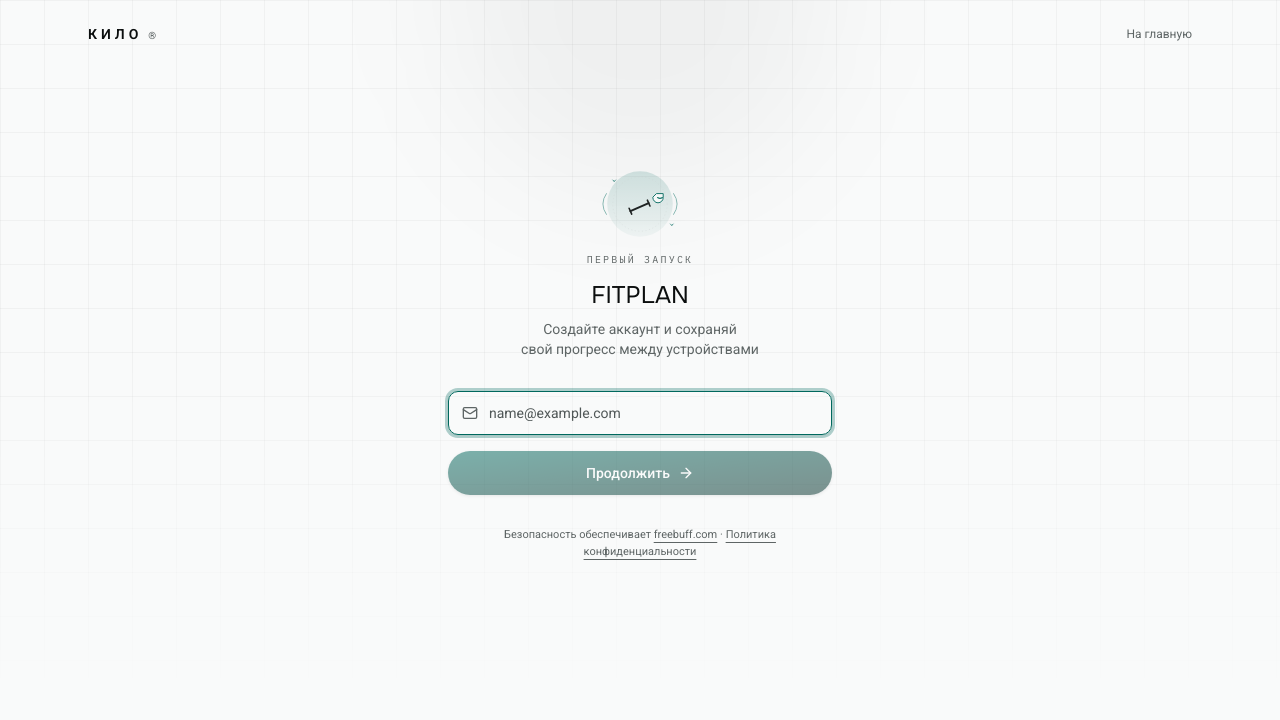
Auth — Email + Password › wrong password shows error
This screenshot has width=1280, height=720.
In the field with placeholder "name@example.com": (640, 413) [448,391,832,435], type "test@example.com"
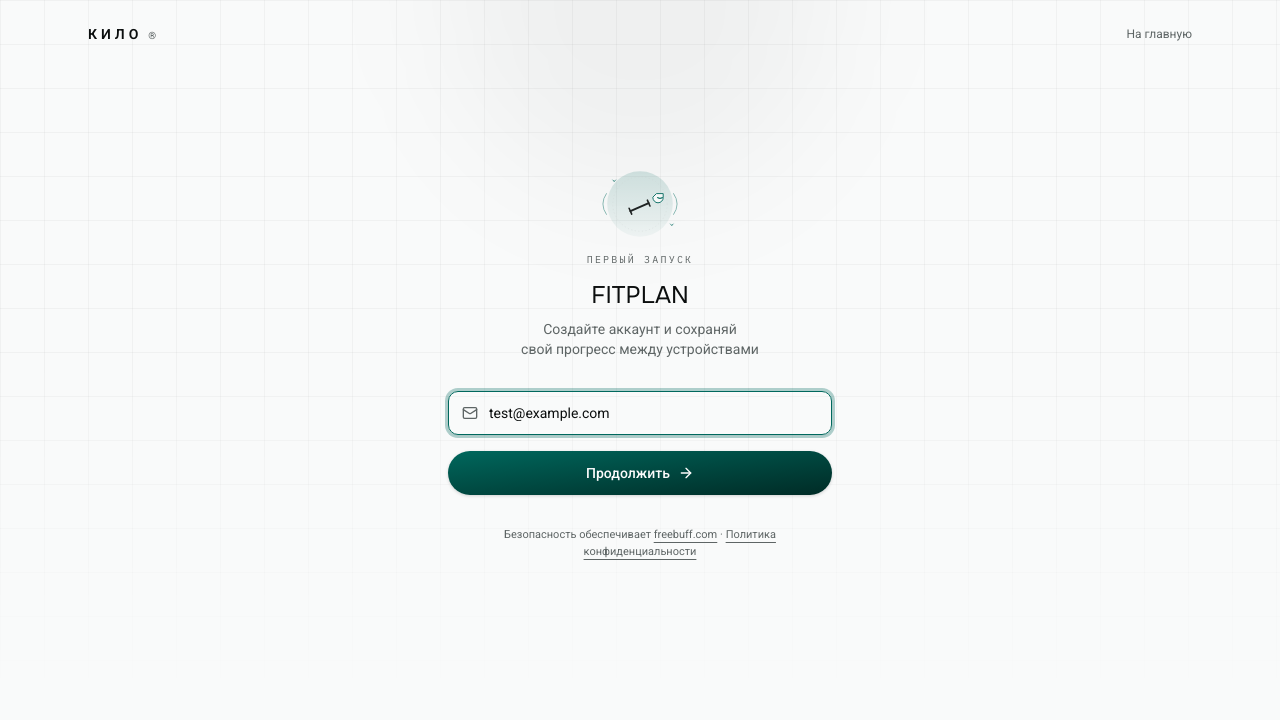
Click the button "Продолжить": (640, 473) [448,451,832,495]
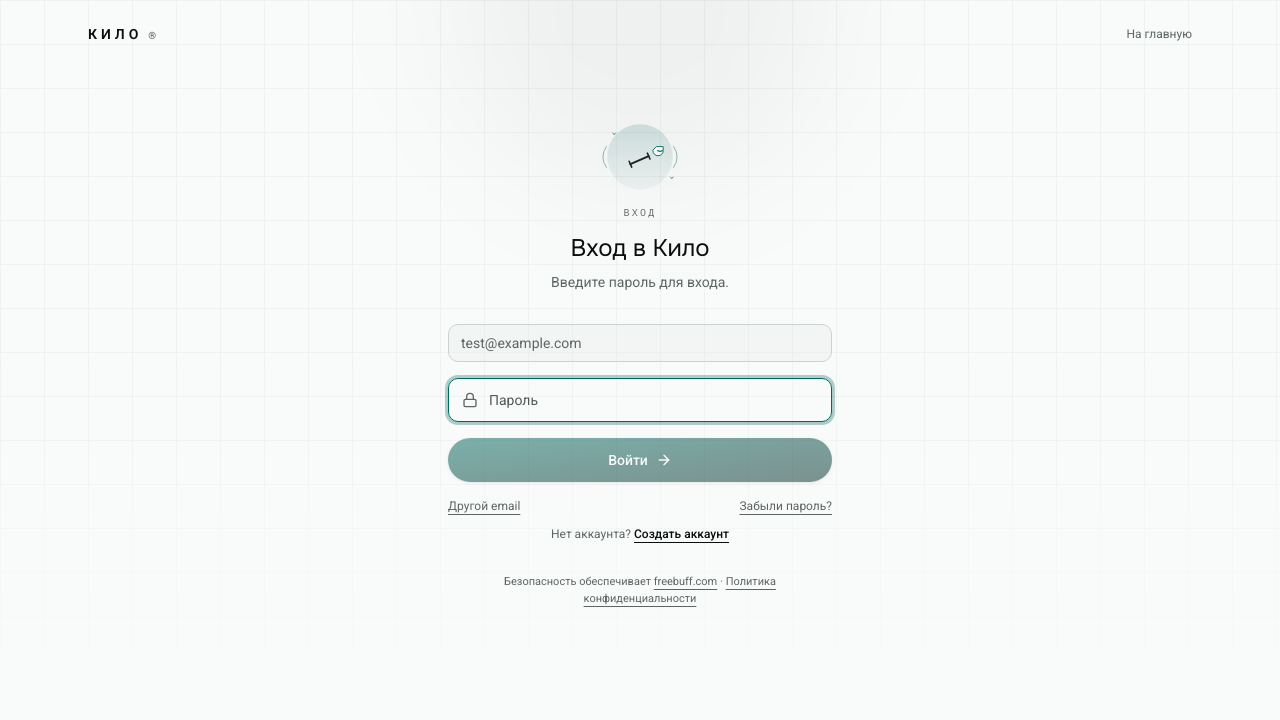
Expected: the password field labelled "Пароль" is shown
In the password field labelled "Пароль": (640, 400) [448,378,832,422], type "wrongpassword"
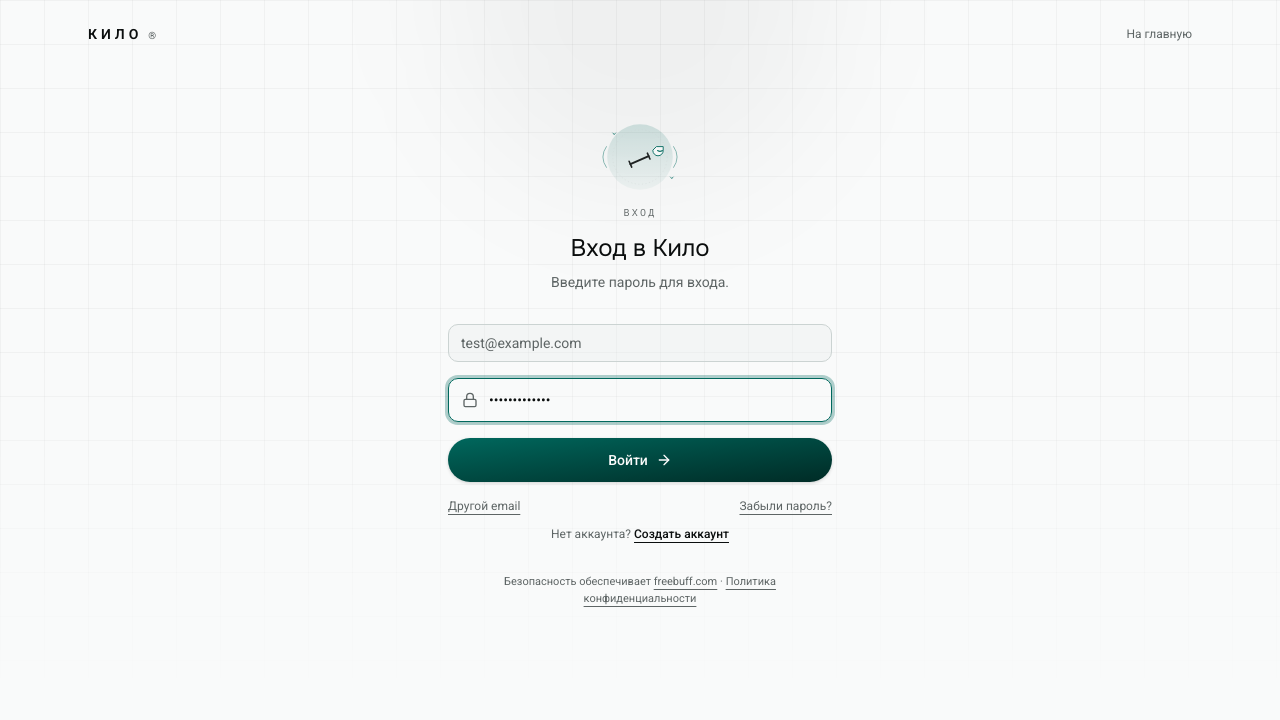
Click the button "Войти": (640, 460) [448,438,832,482]
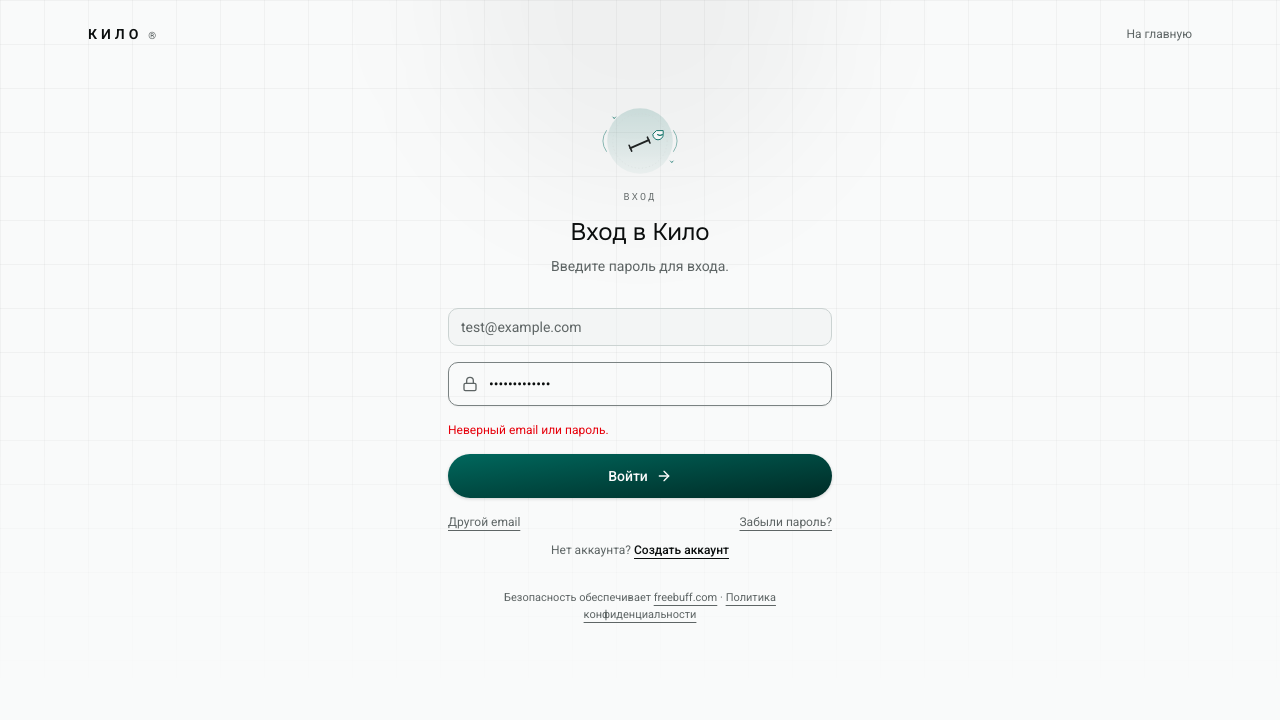
Expected: the text "Неверный email или пароль." is shown, [448,423,609,437]
